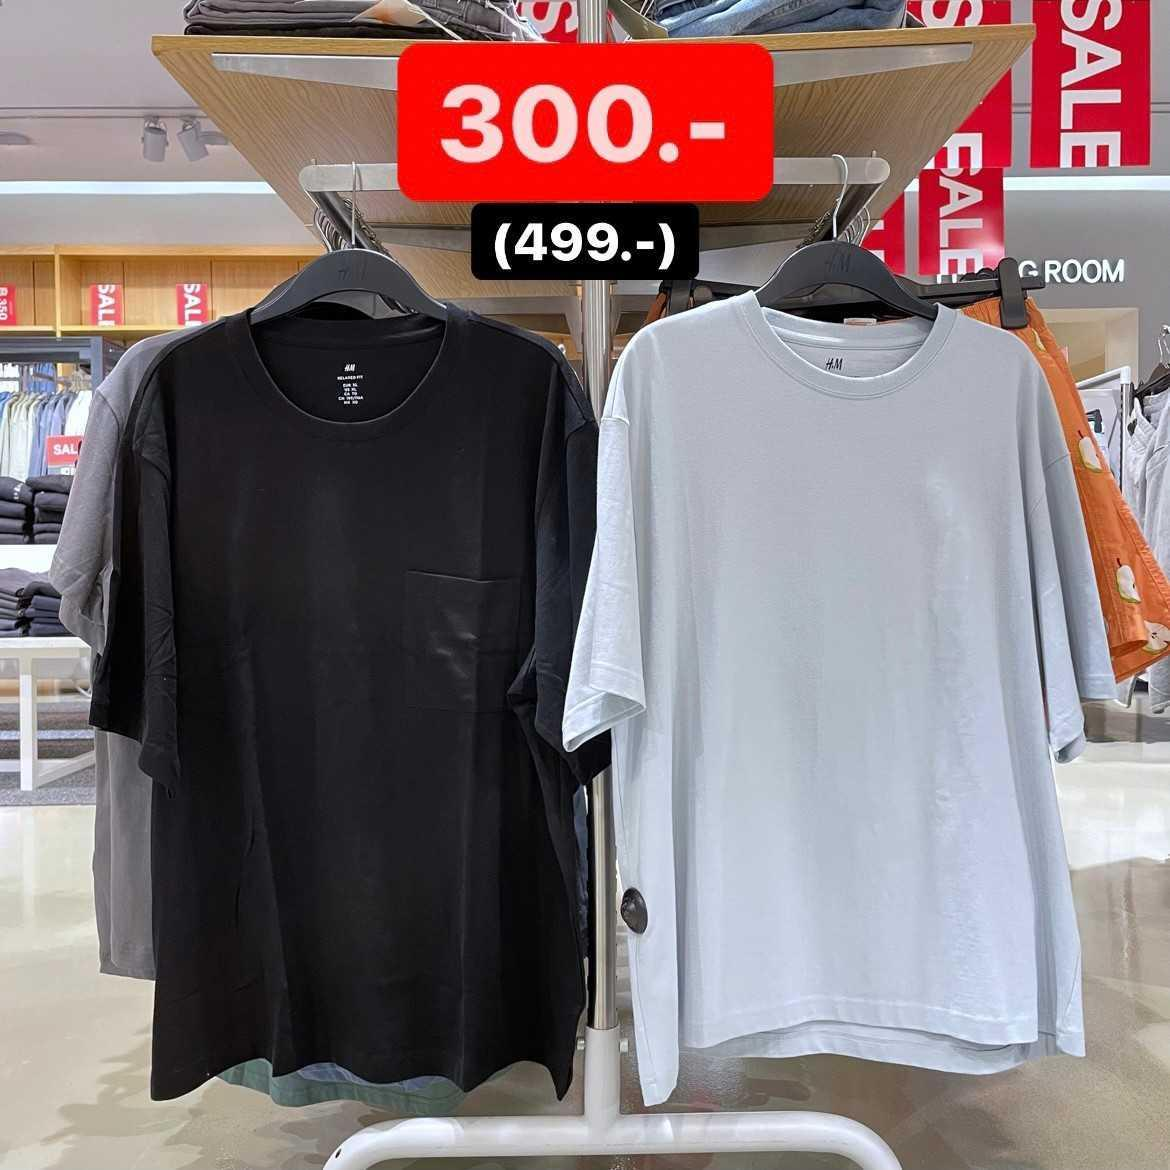Tshirt: (583, 285, 1116, 1087), (88, 303, 579, 1079)
